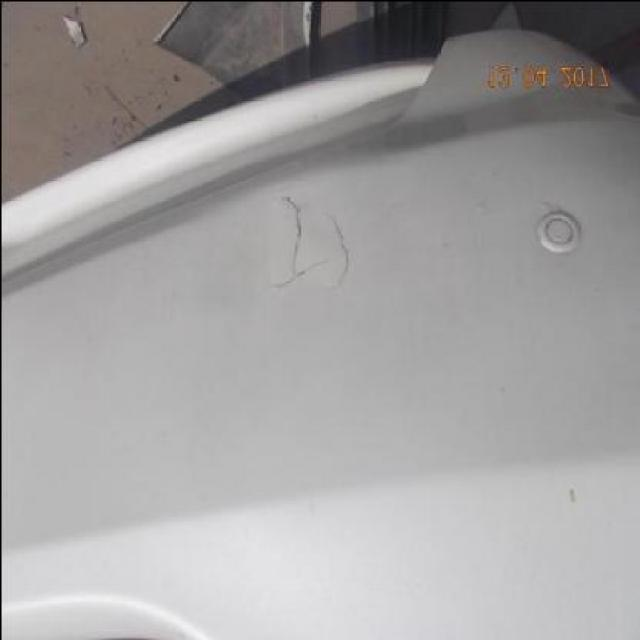damage: (272, 191, 325, 293), (321, 211, 355, 304)
